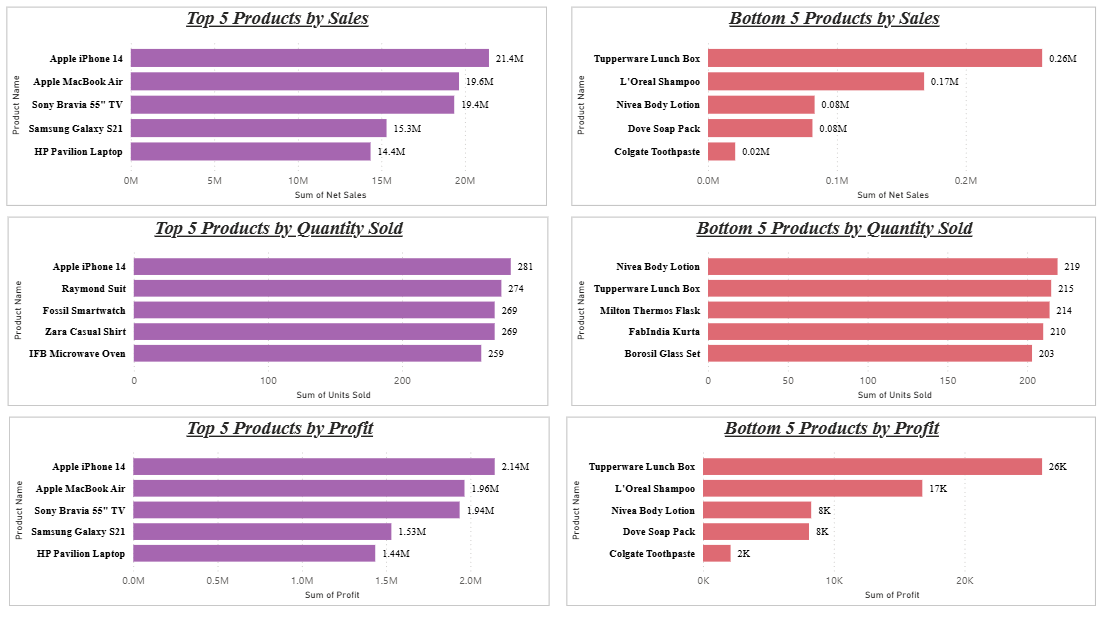

The page's visual inventory and layout, read from the dashboard file:
{"tool":"powerbi","page":{"name":"Top/Bottom 5 Requirements","canvas":[1280,720],"ordinal":0},"visuals":[{"type":"barChart","title":"Top 5 Products by Sales","fields":{"Y":["Sum(Fact Table.Net Sales  )"],"Category":["Dim Product.Product Name"]},"box":[20.6,16.5,618.9,227.8],"z":0},{"type":"barChart","title":"Bottom 5 Products by Sales","fields":{"Y":["Sum(Fact Table.Net Sales  )"],"Category":["Dim Product.Product Name"]},"box":[666.9,16.5,601,227.8],"z":1000},{"type":"barChart","title":"Top 5 Products by Quantity Sold","fields":{"Category":["Dim Product.Product Name"],"Y":["Sum(Fact Table.Units Sold)"]},"box":[22,256.6,618.9,216.8],"z":2000},{"type":"barChart","title":"Bottom 5 Products by Quantity Sold","fields":{"Category":["Dim Product.Product Name"],"Y":["Sum(Fact Table.Units Sold)"]},"box":[666.9,256.6,601,216.8],"z":3000},{"type":"barChart","title":"Top 5 Products by Profit","fields":{"Category":["Dim Product.Product Name"],"Y":["Sum(Fact Table.Profit)"]},"box":[23.3,485.8,618.9,216.8],"z":4000},{"type":"barChart","title":"Bottom 5 Products by Profit","fields":{"Category":["Dim Product.Product Name"],"Y":["Sum(Fact Table.Profit)"]},"box":[661.4,485.8,606.5,216.8],"z":5000}]}

Visuals, with their boxes in screenshot pixels (x1, y1, x2, y2), scaled from the page's 1280x720 canvas onto the 1104x619 screenshot:
"Top 5 Products by Sales" barChart: [left=18, top=14, right=552, bottom=210]
"Bottom 5 Products by Sales" barChart: [left=575, top=14, right=1094, bottom=210]
"Top 5 Products by Quantity Sold" barChart: [left=19, top=221, right=553, bottom=407]
"Bottom 5 Products by Quantity Sold" barChart: [left=575, top=221, right=1094, bottom=407]
"Top 5 Products by Profit" barChart: [left=20, top=418, right=554, bottom=604]
"Bottom 5 Products by Profit" barChart: [left=570, top=418, right=1094, bottom=604]
